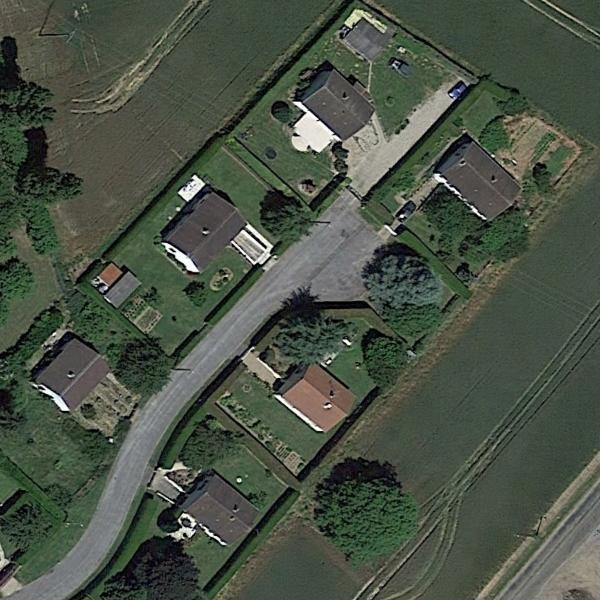Buildings: (155, 201, 247, 264), (442, 154, 528, 213), (280, 370, 354, 427), (304, 74, 370, 136), (184, 479, 250, 540), (37, 346, 105, 401)
